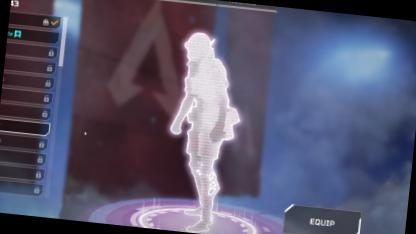Target: (166, 27, 248, 202)
